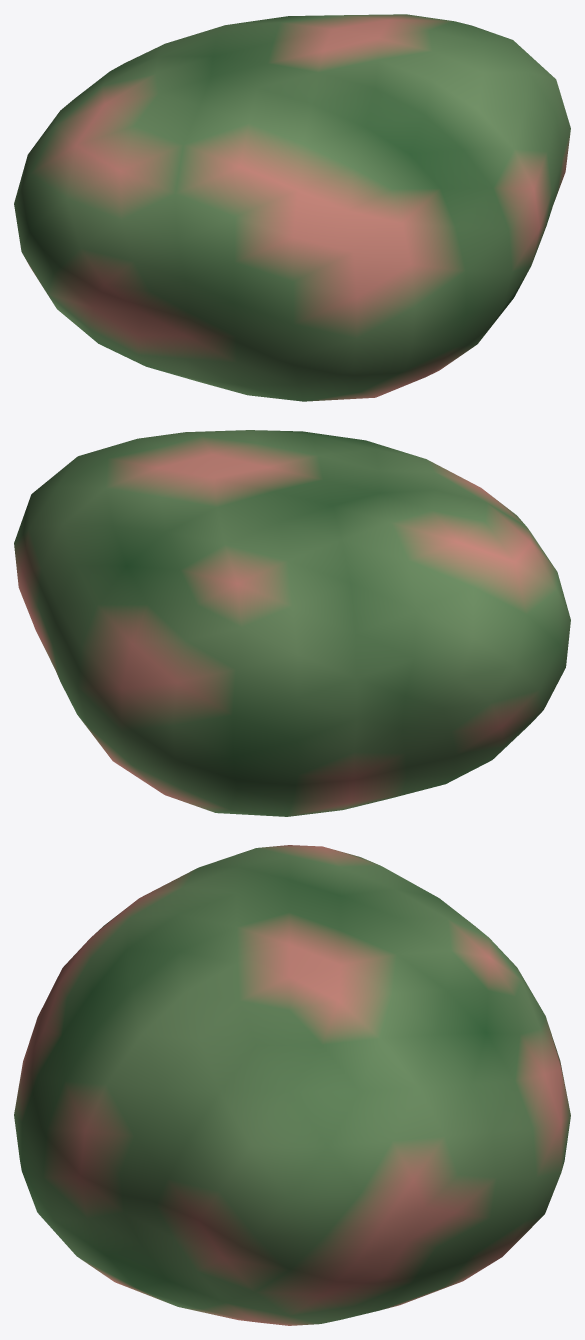
File: unakite.glb
3 views of the same model, one above another, from view 1: azimuth 30°, elevation 25°; view 2: azimuth 150°, elevation 25°; view 3: azimuth 270°, elevation 25° (orthographic). The views are drawn at different scales.
Visible parts, largest first — view 1: unakite; view 2: unakite; view 3: unakite.
Part boxes in pixels (x1=…): unakite: x1=14, y1=14, x2=570, y2=401; unakite: x1=14, y1=430, x2=570, y2=816; unakite: x1=14, y1=845, x2=570, y2=1325.
Bounding box in the file's own units: 0.25 × 0.1371 × 0.1985.
